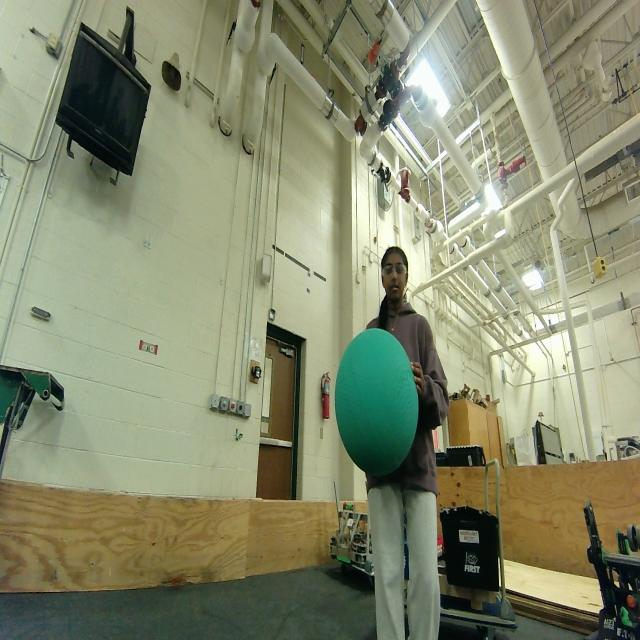algae: (334, 329, 418, 475)
